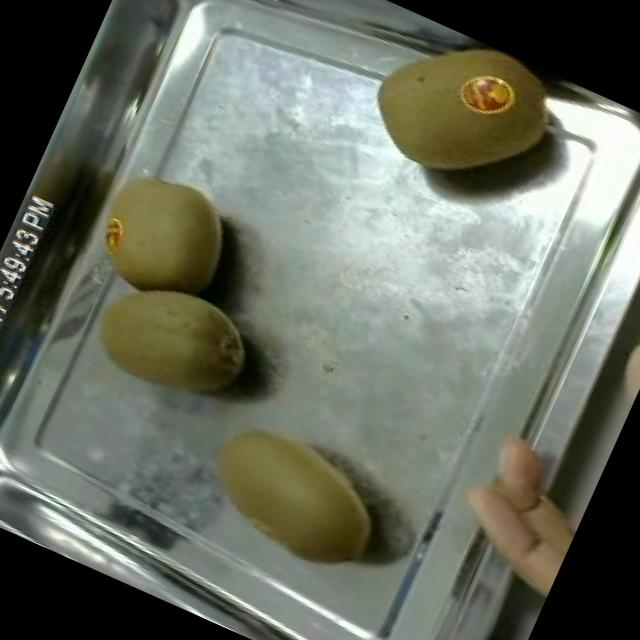Fruit: (342, 7, 577, 222), (178, 394, 410, 592), (409, 400, 609, 614), (74, 252, 276, 430), (70, 143, 256, 324)
